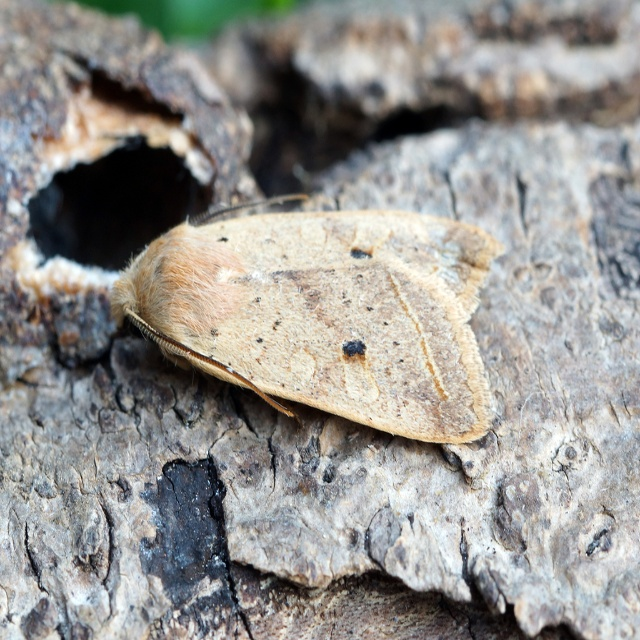Moths and butterflies: (108, 190, 509, 448)
